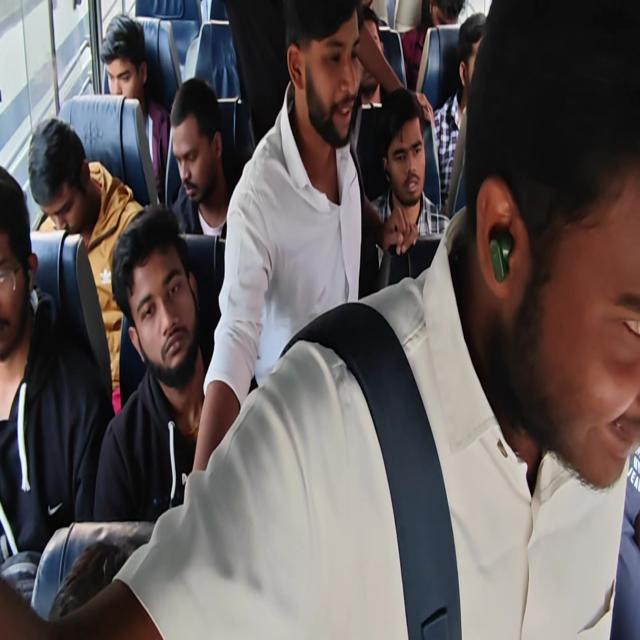person: (465, 0, 640, 500), (112, 211, 207, 391), (282, 2, 361, 148), (44, 539, 156, 633), (21, 115, 97, 240), (164, 80, 234, 204), (0, 148, 35, 376), (377, 79, 423, 212), (92, 8, 148, 106), (351, 9, 398, 104), (448, 13, 495, 94), (426, 0, 462, 26)
